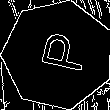P_W: (28, 31, 87, 79)
